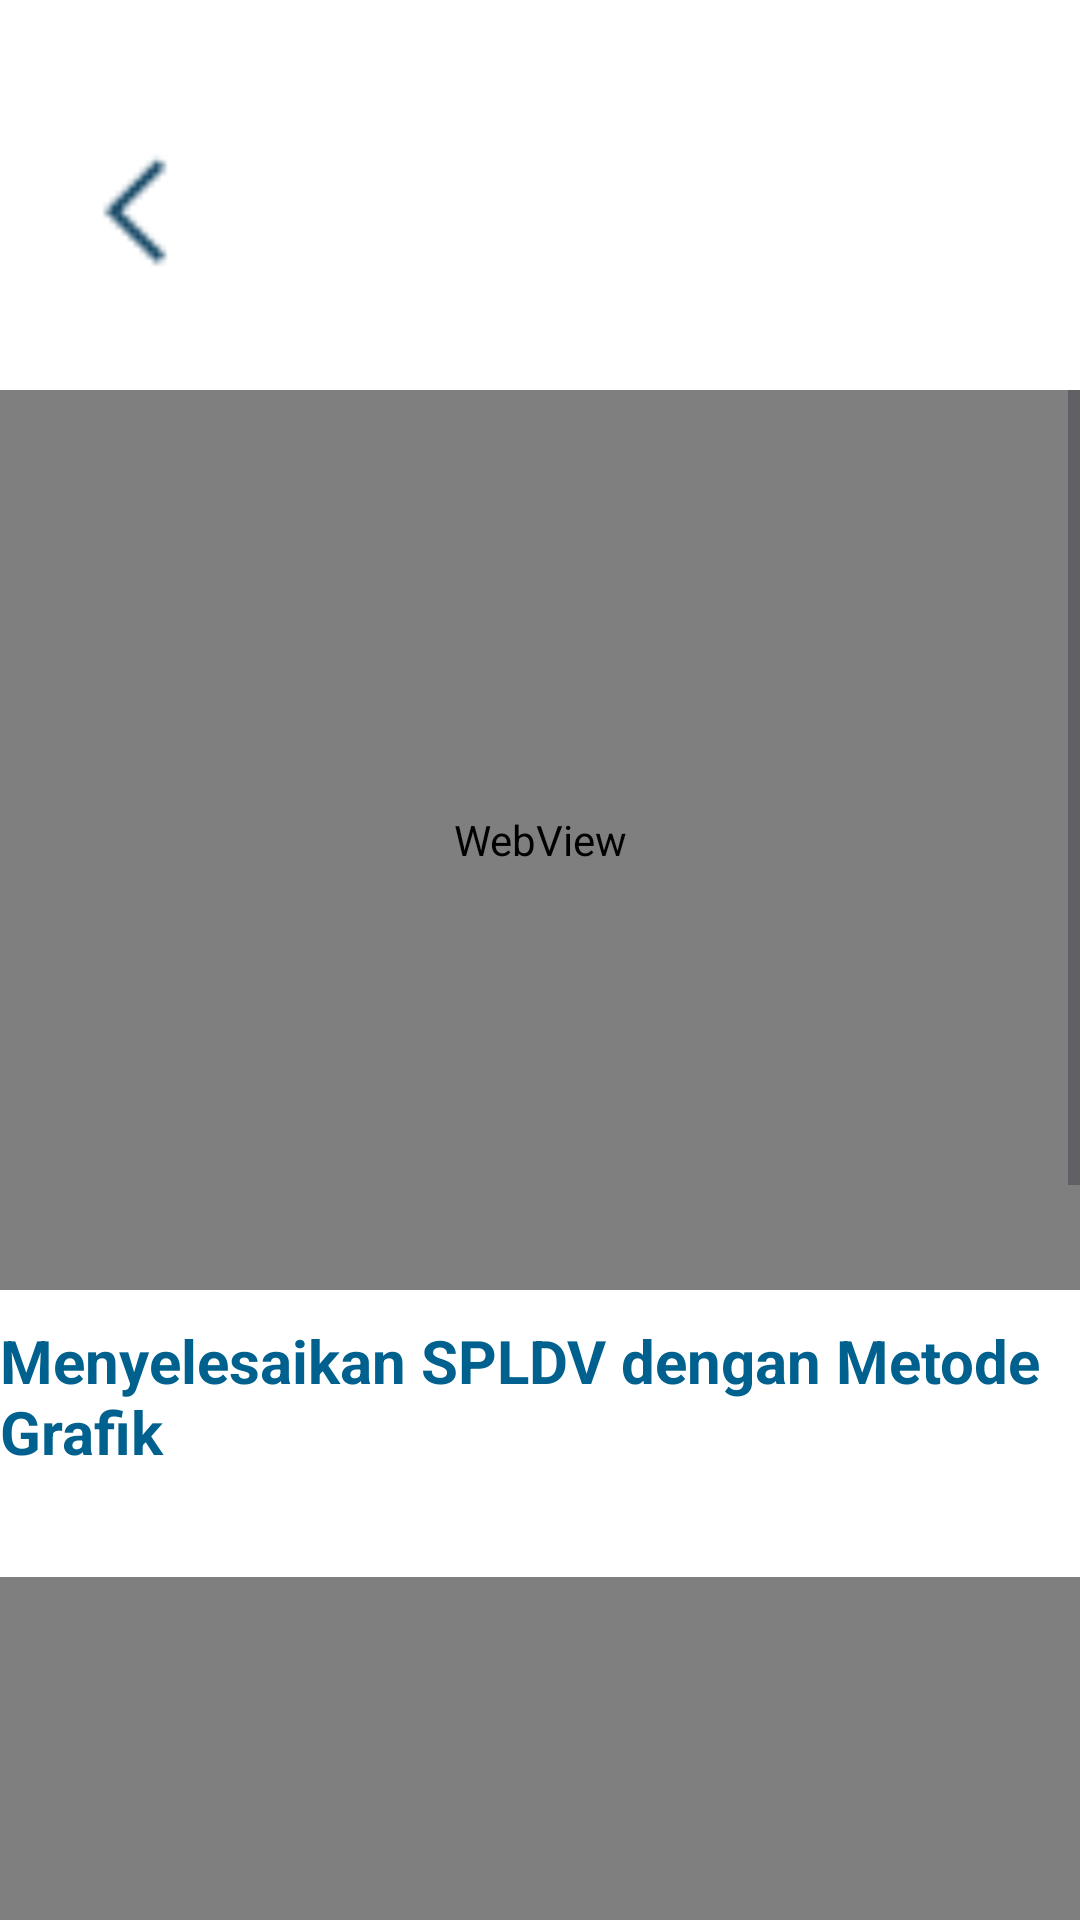

Icons on this 1080*1920 Android screen, each with the point to tap as point (x, y):
kembali: point (135, 212)
